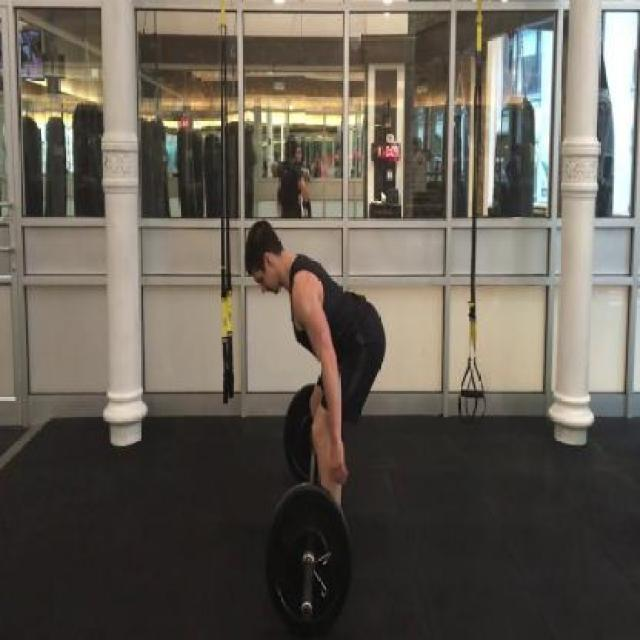Barbell: (299, 602, 313, 624)
